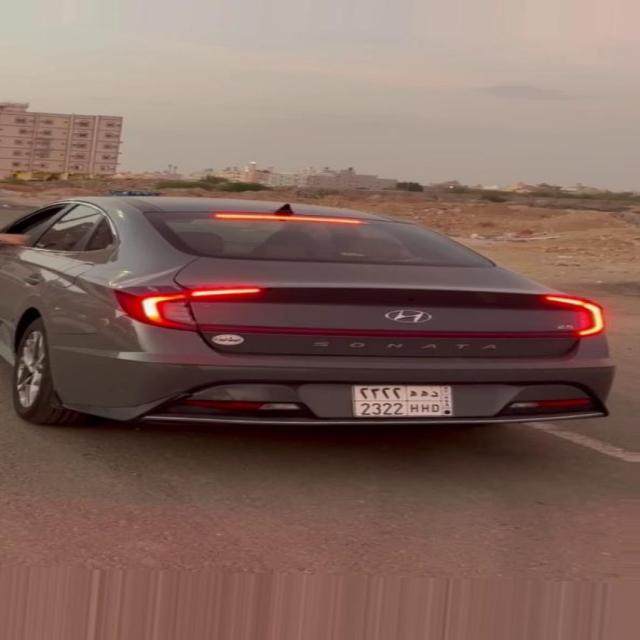Car-plate: (341, 367, 480, 429)
